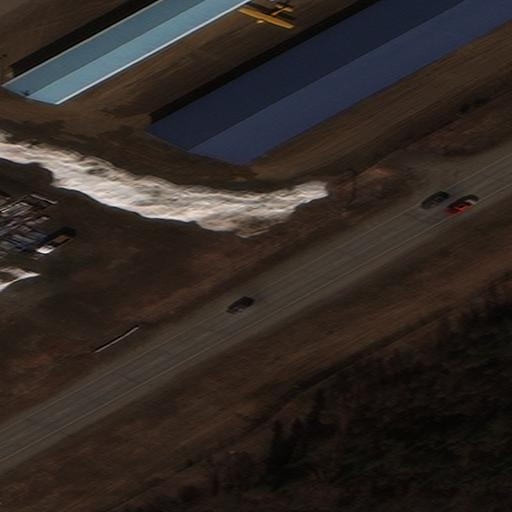Small Civil Transport: (237, 6, 289, 28)
